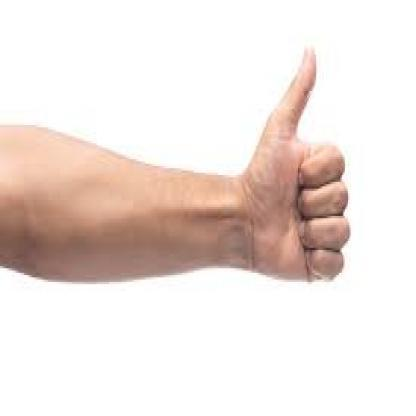thumb_up: (235, 41, 351, 286)
